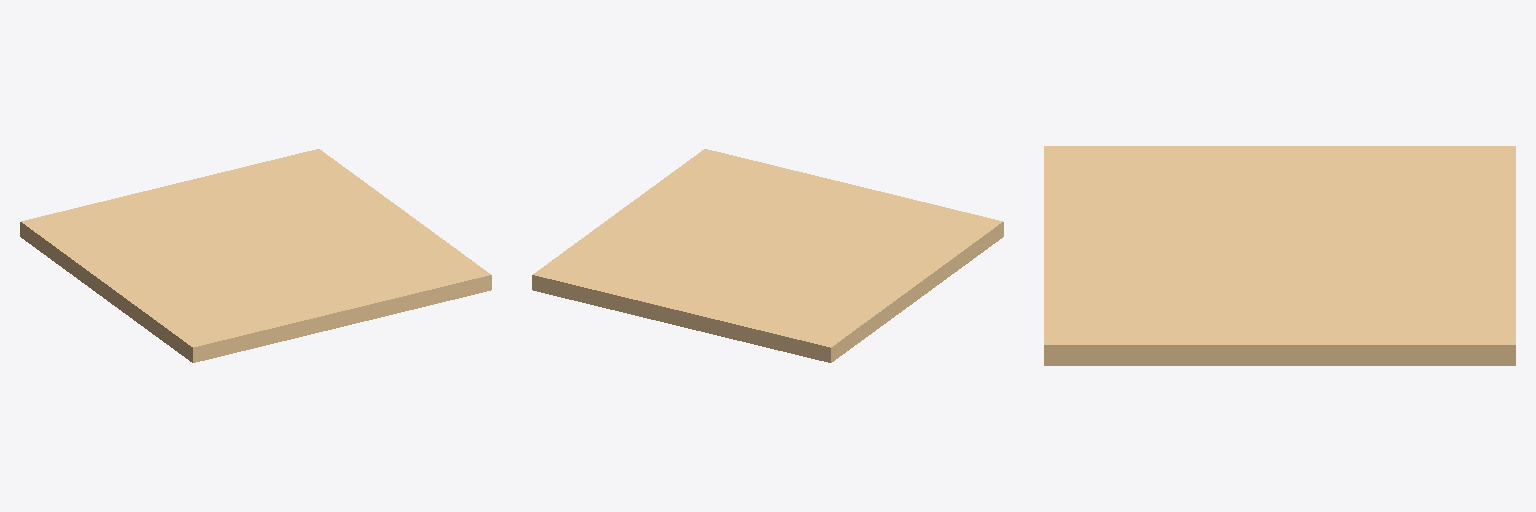
URDF robot description (box):
<?xml version="1.0" ?>
<robot name="box">
  <link name="baselink">
    <inertial>
      <origin rpy="0 0 0" xyz="0 0 0"/>
       <mass value=".0"/>
       <inertia ixx="0" ixy="0" ixz="0" iyy="0" iyz="0" izz="0"/>
    </inertial>

    <visual>
      <origin rpy="0 0 0" xyz="0.05 0 0"/>
      <geometry>
        <box size="0.10 0.10 0.005"/>
      </geometry>
      <material name="panda_white">
        <color rgba="1. 0.87 0.68 1."/>
      </material>
    </visual>

    <!-- <collision concave="yes">
      <origin rpy="0 0 0" xyz="0 0 0"/>
      <geometry>
        <box size="0.2 1.0 0.01"/>
      </geometry>
    </collision> -->

  </link>
</robot>

--- What the picture shows (computed from the rendered views, not written in the file) ---
3 views of the same robot in one strip: view 1: azimuth 30°, elevation 25°; view 2: azimuth 150°, elevation 25°; view 3: azimuth 270°, elevation 25° (orthographic).
Robot: box — 1 links, 0 joints (none); root link baselink; default pose: every joint at zero.
Links seen in each view (by area): view 1: baselink; view 2: baselink; view 3: baselink.
Link boxes in pixels (x1,y1,x2,y2): baselink: (20,149,491,362); baselink: (532,149,1003,362); baselink: (1044,146,1515,365).
Bounding box of the posed robot: 0.1 × 0.1 × 0.005 m (x, y, z).
Geometry: primitives only (box / cylinder / sphere), no mesh files.